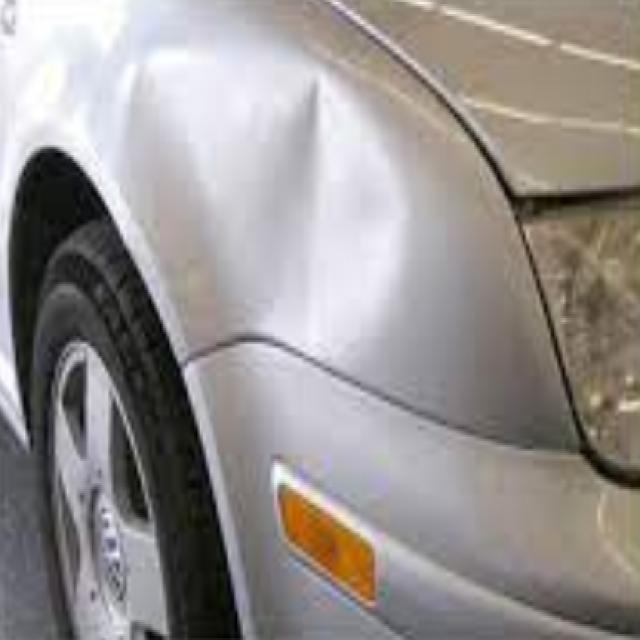dents: (249, 81, 420, 365)
